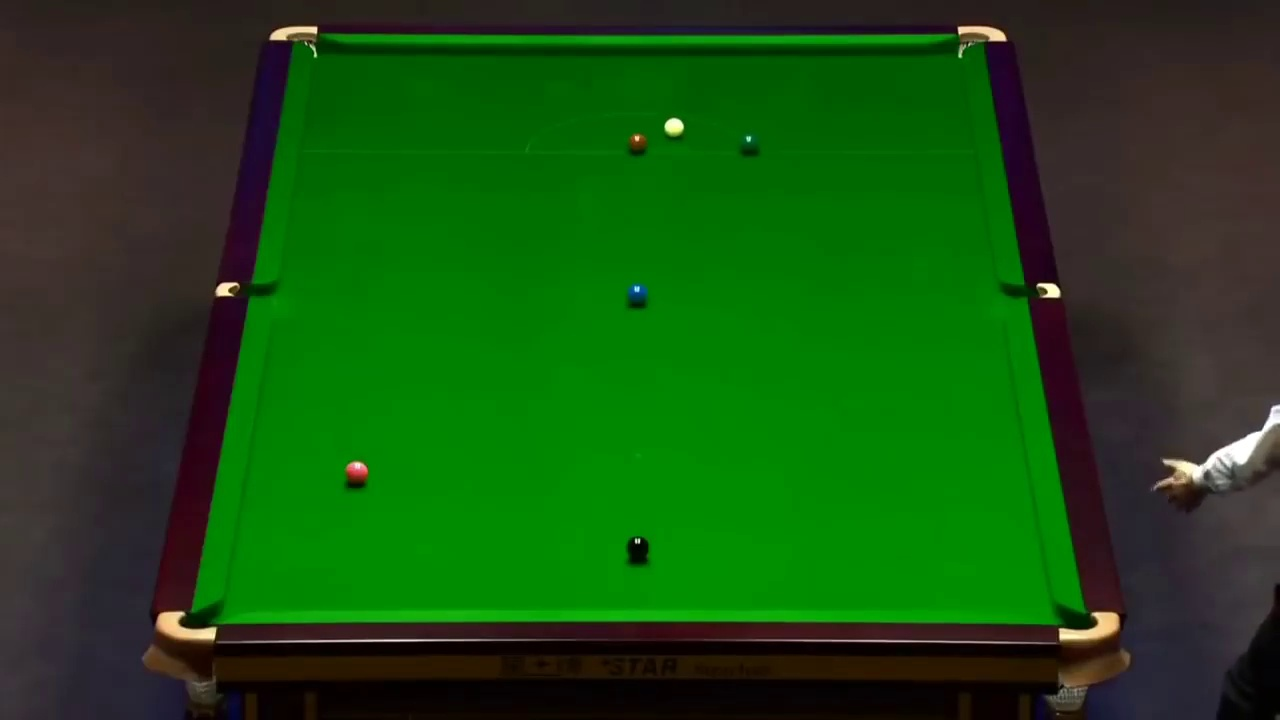ball: (623, 536, 650, 560), (344, 461, 367, 482)
